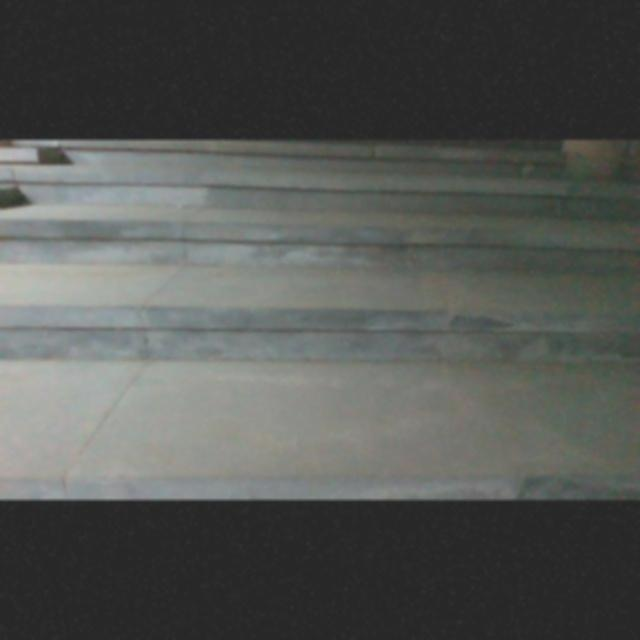stair: (0, 142, 631, 496)
